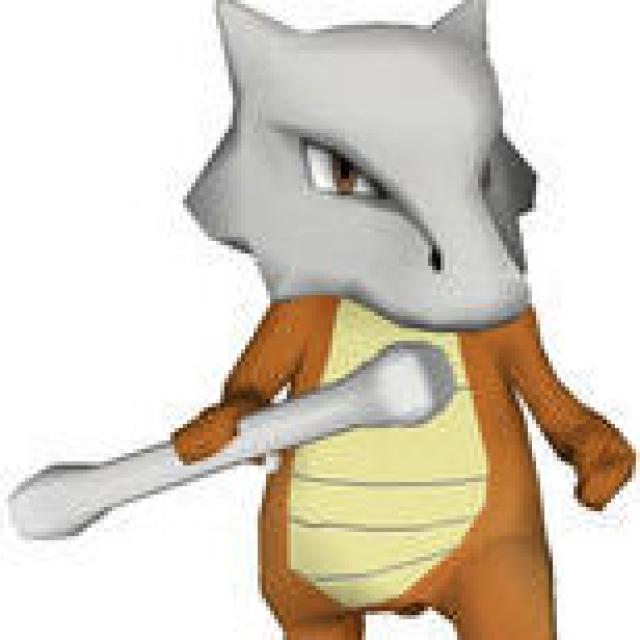Marowak: (193, 0, 588, 638)
